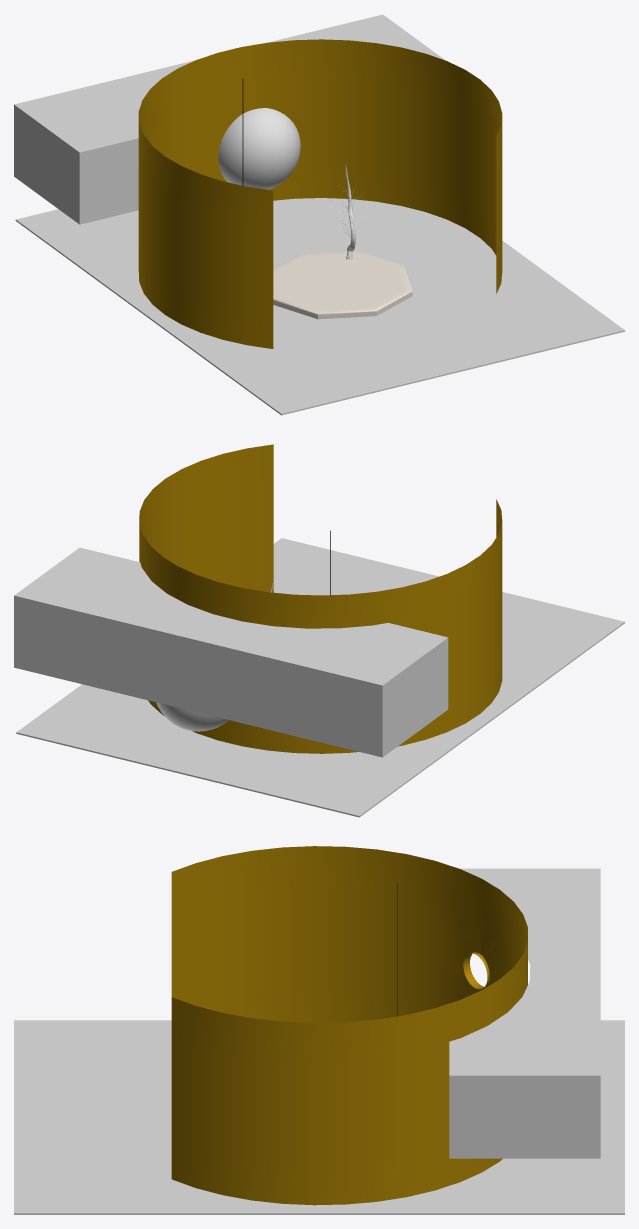
Rendered from room3.gltf.
3 views of the same model, one above another, from view 1: azimuth 30°, elevation 25°; view 2: azimuth 150°, elevation 25°; view 3: azimuth 270°, elevation 25° (orthographic). The views are drawn at different scales.
Visible parts, largest first — view 1: Rounded wall, Floor, back rectangle, Podium, Globe; view 2: back rectangle, Rounded wall, Floor, Globe; view 3: Rounded wall, Floor, back rectangle.
Boxes of the visible parts, bbox=[...] form: Rounded wall: bbox=[138, 39, 502, 348]; Floor: bbox=[15, 198, 624, 415]; back rectangle: bbox=[14, 14, 445, 224]; Podium: bbox=[273, 251, 412, 319]; Globe: bbox=[218, 108, 300, 189]; back rectangle: bbox=[14, 547, 448, 757]; Rounded wall: bbox=[139, 444, 502, 753]; Floor: bbox=[16, 538, 624, 817]; Globe: bbox=[156, 702, 228, 731]; Rounded wall: bbox=[171, 846, 527, 1205]; Floor: bbox=[14, 1020, 624, 1214]; back rectangle: bbox=[449, 868, 600, 1158].
Bounding box in the file's own units: 10.71 × 5.25 × 13.36.
